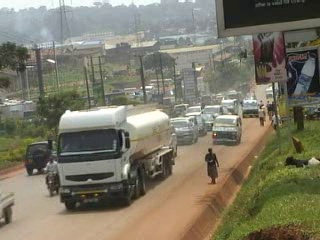Car: (22, 138, 62, 176), (187, 113, 208, 136), (168, 123, 179, 160), (184, 104, 205, 121)
Motorcycle: (39, 155, 61, 197)
